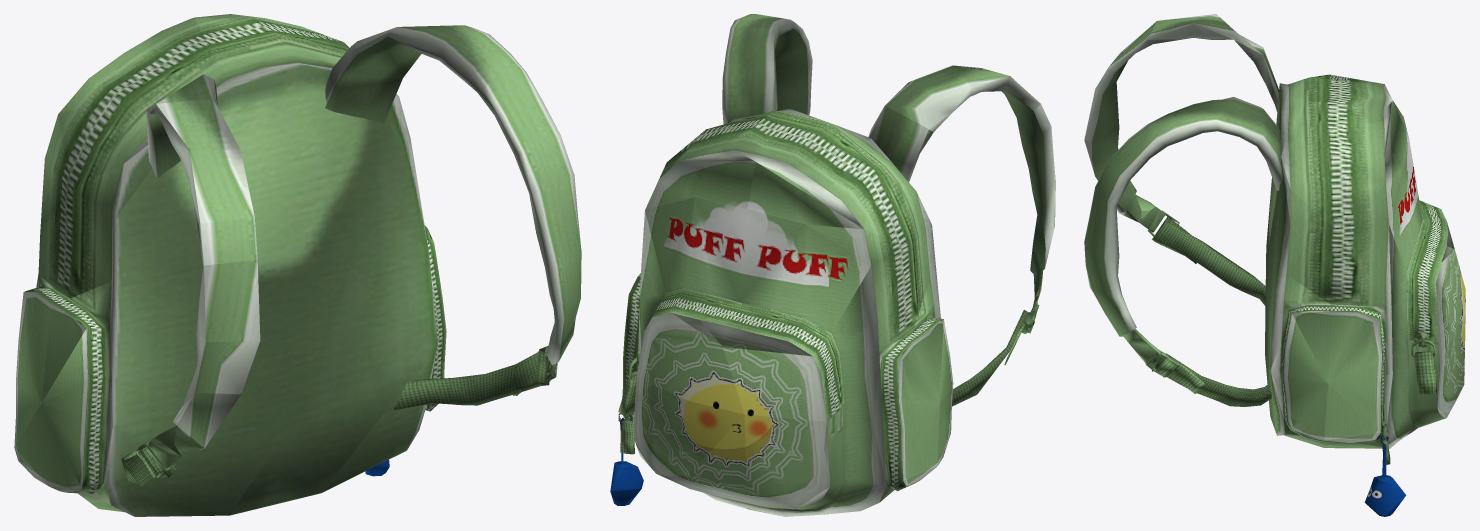
Rendered from Bag.fbx.
3 renders of one model, left to right at view 1: azimuth 30°, elevation 25°; view 2: azimuth 150°, elevation 25°; view 3: azimuth 270°, elevation 25°, orthographic. The views are drawn at different scales.
Visible parts, largest first — view 1: polySurface2; view 2: polySurface2; view 3: polySurface2.
Part boxes in pixels (<box>): polySurface2: <box>14,14,581,516</box>; polySurface2: <box>610,14,1055,516</box>; polySurface2: <box>1084,14,1465,516</box>.
Size of the model in its own units: 0.5279 by 0.6635 by 0.5905.
1 material, 1 textured.
